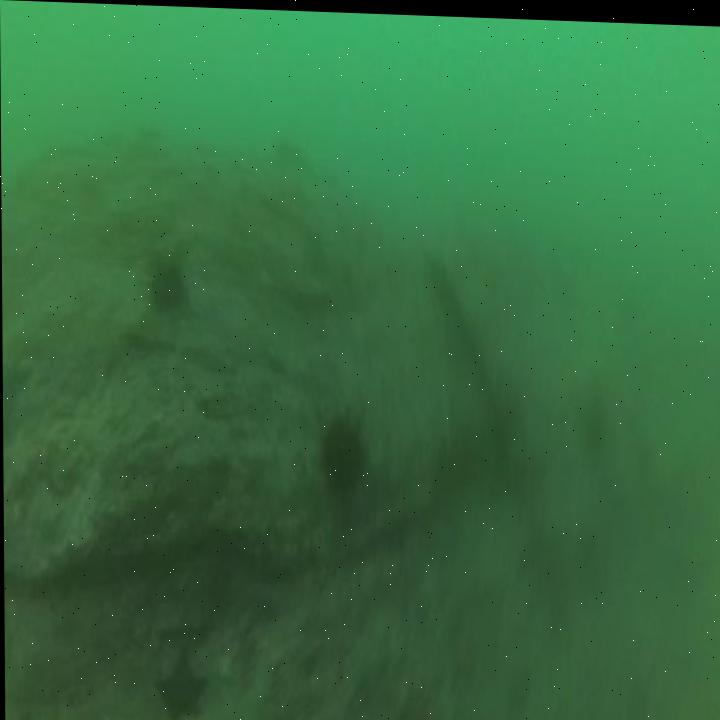echinus: (320, 416, 364, 491), (147, 260, 185, 306)
starfish: (153, 650, 208, 720)
